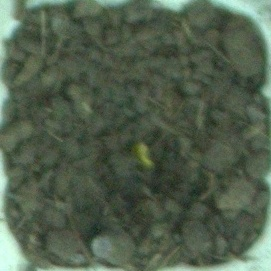pepper seed: (49, 53, 212, 225)
